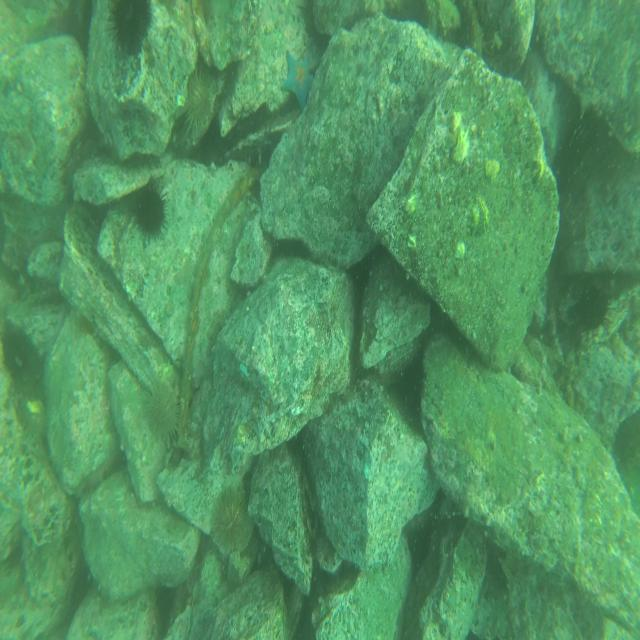echinus: (144, 382, 180, 447), (217, 486, 250, 552), (180, 70, 212, 138), (112, 1, 151, 54), (132, 183, 164, 238), (578, 286, 611, 335), (1, 331, 28, 381)
starfish: (281, 47, 315, 106)
